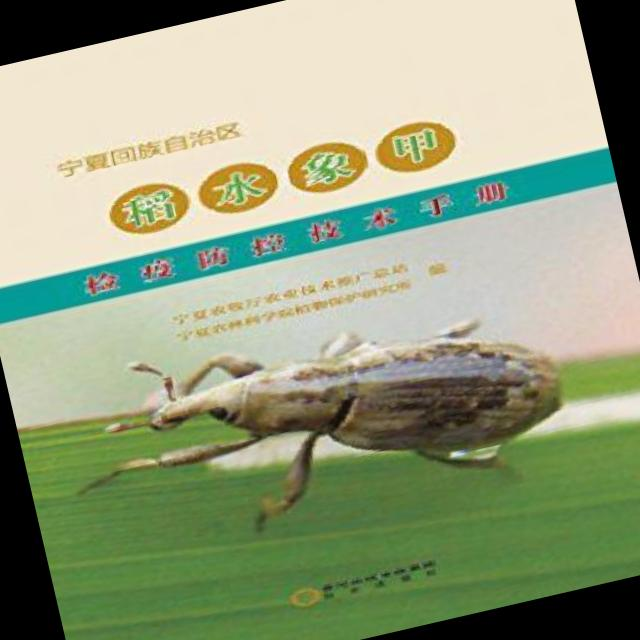rice-bug: (103, 274, 591, 550)
